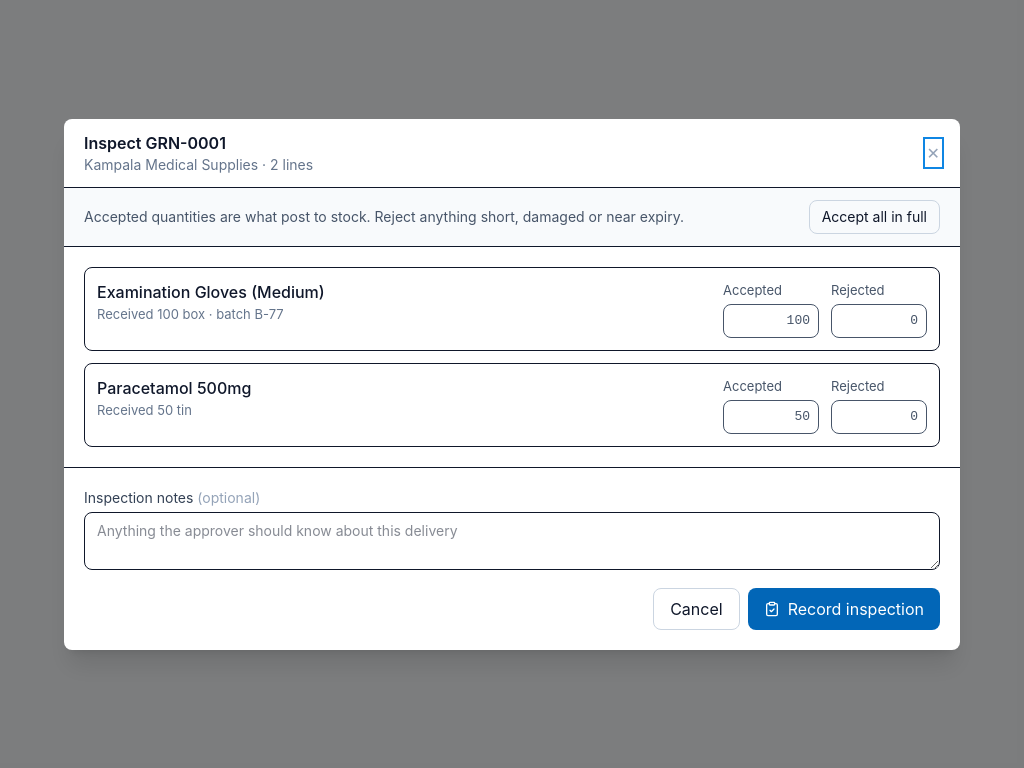
InspectGRNModal › "Accept all in full" clears a rejection and its reason
Replace the text in the number field labelled "Rejected" in the row of "· batch B-77" with "40". click: {"x": 879, "y": 320}
box: [831,304,927,338]
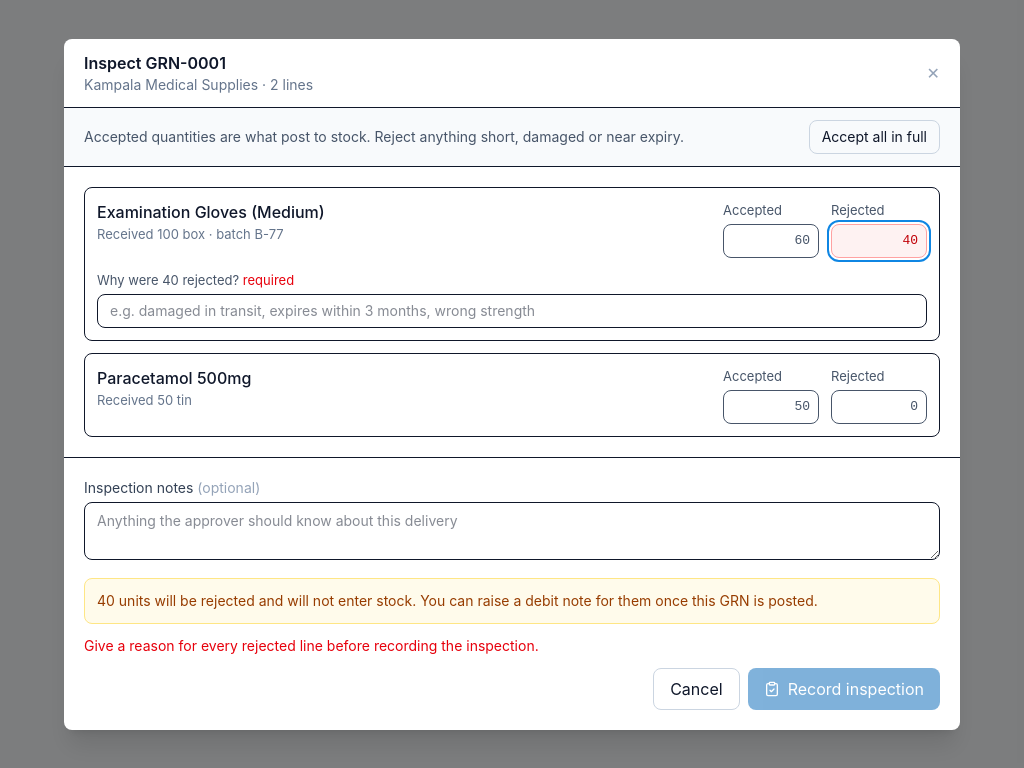
Type "expired" into the field with placeholder "damaged in transit". click: {"x": 512, "y": 310}
box: [97,294,927,328]
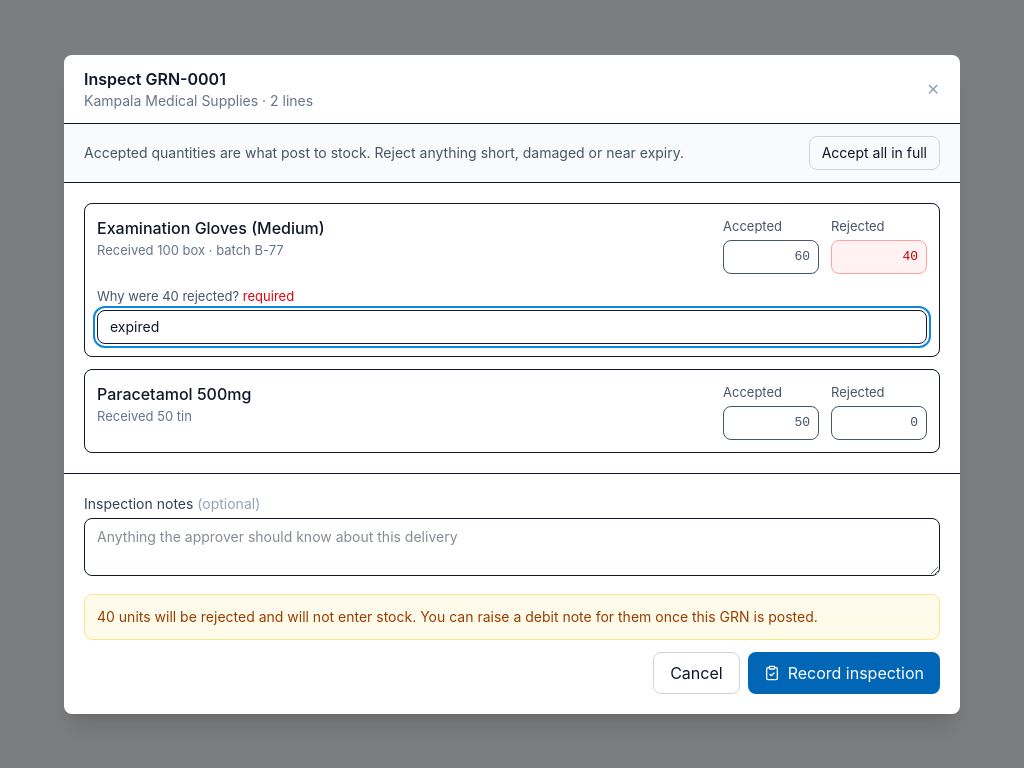
Click the button "Accept all in full". click: {"x": 874, "y": 152}
box: [809,136,940,170]
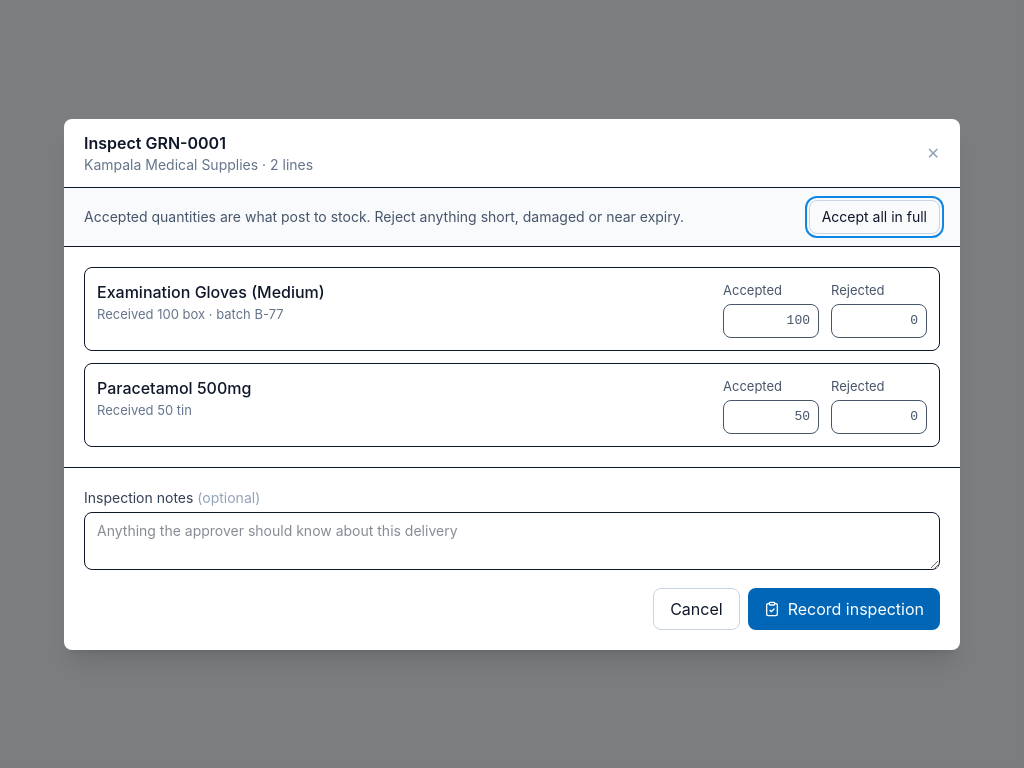
Expected: the field with placeholder "damaged in transit" is not shown
Expected: the number field labelled "Accepted" in the row of "· batch B-77" holds "100", [723,304,819,338]
